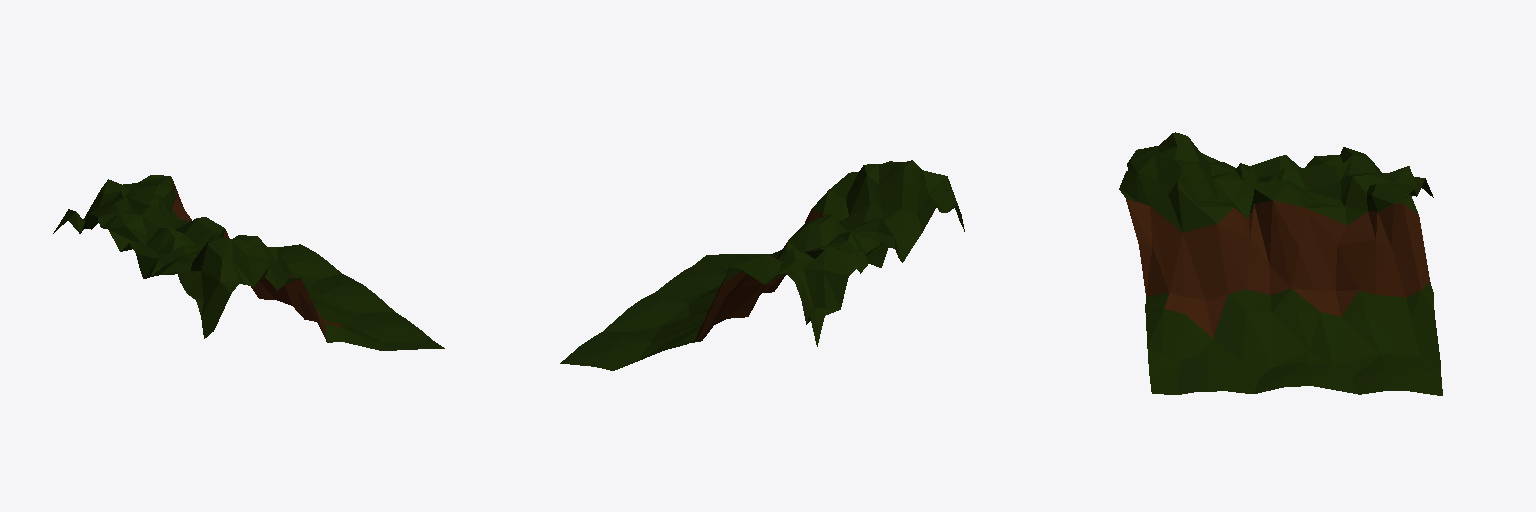
The model's file is Utes.obj.
The picture shows the model from 3 angles: view 1: azimuth 30°, elevation 25°; view 2: azimuth 150°, elevation 25°; view 3: azimuth 270°, elevation 25°; orthographic projection.
Parts seen in each view (by area): view 1: Plane; view 2: Plane; view 3: Plane.
Boxes of the visible parts, box(x1,y1,x2,y2) form: Plane: box(53, 175, 444, 350); Plane: box(560, 160, 964, 370); Plane: box(1119, 132, 1442, 395).
Size of the model in its own units: 2.01 by 1.2 by 2.25.